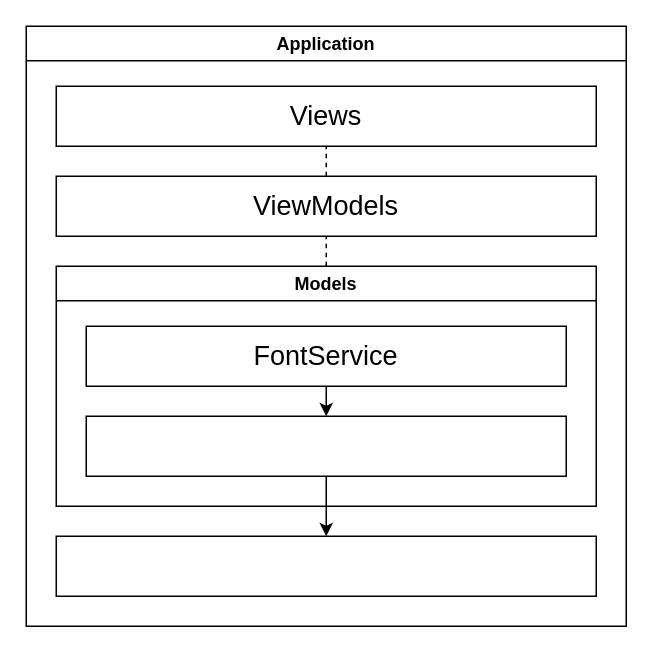
This 653x653 diagram has some shape labels left out. Here are the shapes that lost their labels. From the top down, the centre of each, then its label:
At point 325,445: "DirectWrite".
At point 325,565: "System Font Collection".
